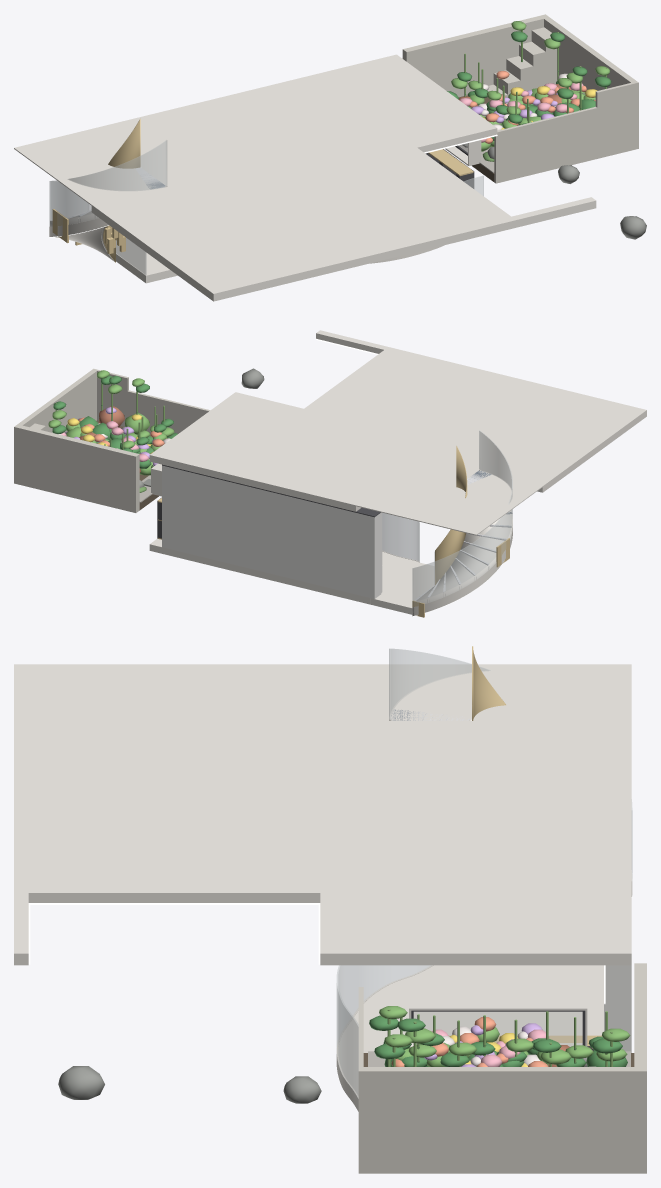
The picture shows the model from 3 angles, top to bottom: view 1: azimuth 30°, elevation 25°; view 2: azimuth 150°, elevation 25°; view 3: azimuth 270°, elevation 25°; orthographic projection. The views are drawn at different scales.
Visible parts, largest first — view 1: B1_Ceiling_MainSlab_Cap_W, B1_Ceiling_MainSlab_Cap_NE, B1_Garden_SideWallS, B1_Garden_SideWallN, B1_To_1F_Spiral_OuterGlass, B1_Garden_SideWallS_Ext, B1_Garden_BackWallLow, B1_Mezz_NW_Arrival, B1_Ceiling_Dropped_SW, B1_To_1F_Spiral_InnerBalustrade, B1_Ceiling_MainSlab_SW, B1_To_1F_Spiral_WhiteSoffit (+11 smaller); view 2: B1_Ceiling_MainSlab_Cap_W, B1_Grid_Carcass, B1_Garden_SideWallN, B1_Ceiling_MainSlab_Cap_NE, B1_To_1F_Spiral_OuterGlass, B1_To_1F_Spiral_WhiteSoffit, B1_Mezz_Slab, B1_Garden_BackWallLow, B1_Garden_SideWallS, B1_Mezz_NW_Arrival, B1_Platform_Glass_Curved, B1_To_1F_Spiral_InnerBalustrade (+5 smaller); view 3: B1_Ceiling_MainSlab_Cap_W, B1_Garden_BackWallLow, B1_Ceiling_MainSlab_Cap_NE, B1_Mezz_Slab, B1_Platform_Glass_Curved, B1_East_Win_Lower_Glass, B1_To_1F_Spiral_OuterGlass, B1_Garden_SideWallN, B1_Skylight_Reveal_W, B1_Ceiling_Dropped_Plate, B1_East_Win_Lower_Reveal_Top, B1_Ceiling_MainSlab_NE (+8 smaller).
Boxes of the visible parts, bbox=[...] form: B1_Ceiling_MainSlab_Cap_W: bbox=[14, 74, 516, 294]; B1_Ceiling_MainSlab_Cap_NE: bbox=[317, 54, 497, 147]; B1_Garden_SideWallS: bbox=[494, 106, 597, 183]; B1_Garden_SideWallN: bbox=[402, 14, 547, 97]; B1_To_1F_Spiral_OuterGlass: bbox=[49, 140, 167, 226]; B1_Garden_SideWallS_Ext: bbox=[595, 82, 638, 158]; B1_Garden_BackWallLow: bbox=[542, 16, 637, 90]; B1_Mezz_NW_Arrival: bbox=[116, 238, 177, 283]; B1_Ceiling_Dropped_SW: bbox=[91, 209, 354, 301]; B1_To_1F_Spiral_InnerBalustrade: bbox=[103, 119, 140, 262]; B1_Ceiling_MainSlab_SW: bbox=[91, 206, 354, 297]; B1_To_1F_Spiral_WhiteSoffit: bbox=[50, 211, 114, 261]; B1_Ceiling_MainSlab_Cap_W: bbox=[218, 347, 646, 535]; B1_Grid_Carcass: bbox=[162, 465, 379, 597]; B1_Garden_SideWallN: bbox=[14, 424, 139, 512]; B1_Ceiling_MainSlab_Cap_NE: bbox=[149, 392, 303, 472]; B1_To_1F_Spiral_OuterGlass: bbox=[412, 430, 512, 606]; B1_To_1F_Spiral_WhiteSoffit: bbox=[416, 510, 512, 603]; B1_Mezz_Slab: bbox=[149, 538, 418, 604]; B1_Garden_BackWallLow: bbox=[18, 369, 97, 432]; B1_Garden_SideWallS: bbox=[127, 390, 210, 433]; B1_Mezz_NW_Arrival: bbox=[371, 562, 434, 614]; B1_Platform_Glass_Curved: bbox=[382, 513, 419, 561]; B1_To_1F_Spiral_InnerBalustrade: bbox=[435, 446, 467, 584]; B1_Ceiling_MainSlab_Cap_W: bbox=[14, 664, 631, 894]; B1_Garden_BackWallLow: bbox=[361, 1067, 639, 1173]; B1_Ceiling_MainSlab_Cap_NE: bbox=[320, 893, 631, 954]; B1_Mezz_Slab: bbox=[338, 965, 603, 1094]; B1_Platform_Glass_Curved: bbox=[336, 965, 431, 1098]; B1_East_Win_Lower_Glass: bbox=[414, 1012, 582, 1046]; B1_To_1F_Spiral_OuterGlass: bbox=[389, 648, 632, 880]; B1_Garden_SideWallN: bbox=[634, 963, 646, 1173]; B1_Skylight_Reveal_W: bbox=[28, 892, 320, 902]; B1_Ceiling_Dropped_Plate: bbox=[320, 959, 631, 965]; B1_East_Win_Lower_Reveal_Top: bbox=[409, 999, 587, 1010]; B1_Ceiling_MainSlab_NE: bbox=[320, 955, 631, 959].
Size of the model in its own units: 11.02 by 3.19 by 7.28.
27 materials, 1 textured.
